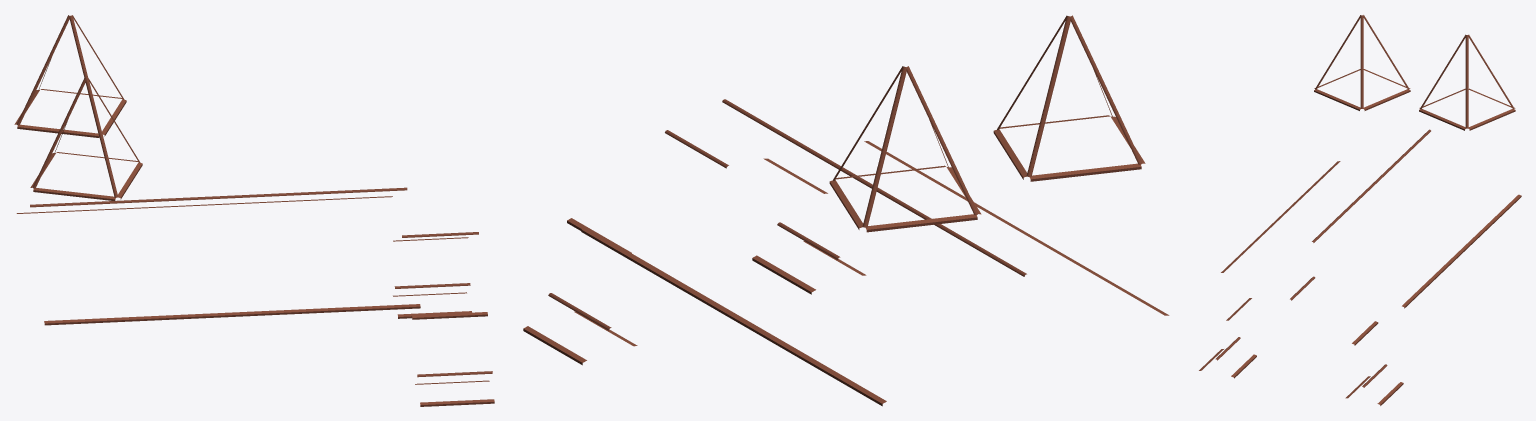
3 renders of one model, left to right at view 1: azimuth 30°, elevation 25°; view 2: azimuth 150°, elevation 25°; view 3: azimuth 270°, elevation 25°, orthographic. The views are drawn at different scales.
Parts seen in each view (by area): view 1: detail; view 2: detail; view 3: detail.
Boxes of the visible parts, x1,y1,x2,y2 form: detail: (14,15,494,406); detail: (523,15,1169,406); detail: (1199,15,1521,405).
Bounding box in the file's own units: 38.9 × 26.61 × 31.62.
